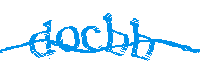b: (129, 18, 154, 61), (104, 13, 128, 56)
c: (80, 23, 104, 52)
d: (28, 18, 54, 58)
o: (54, 25, 80, 51)
